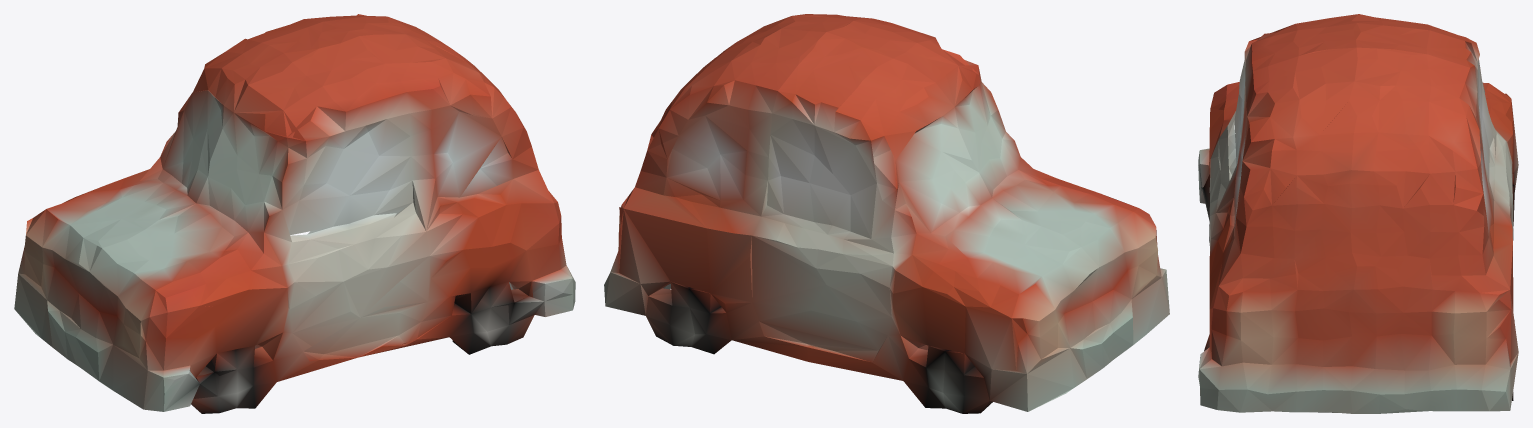
File: m-agujero-auto.glb
The picture shows the model from 3 angles, left to right: view 1: azimuth 30°, elevation 25°; view 2: azimuth 150°, elevation 25°; view 3: azimuth 270°, elevation 25°; orthographic projection. The views are drawn at different scales.
Size of the model in its own units: 1.9 by 1.16 by 1.08.
